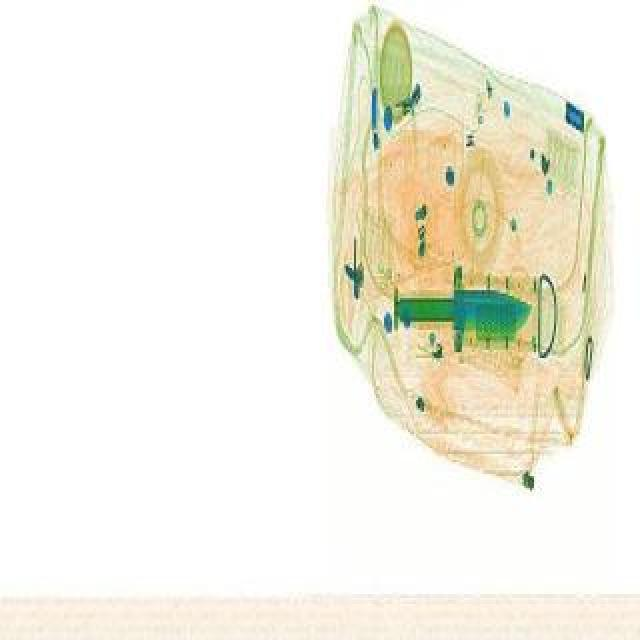knife: (396, 290, 532, 332)
